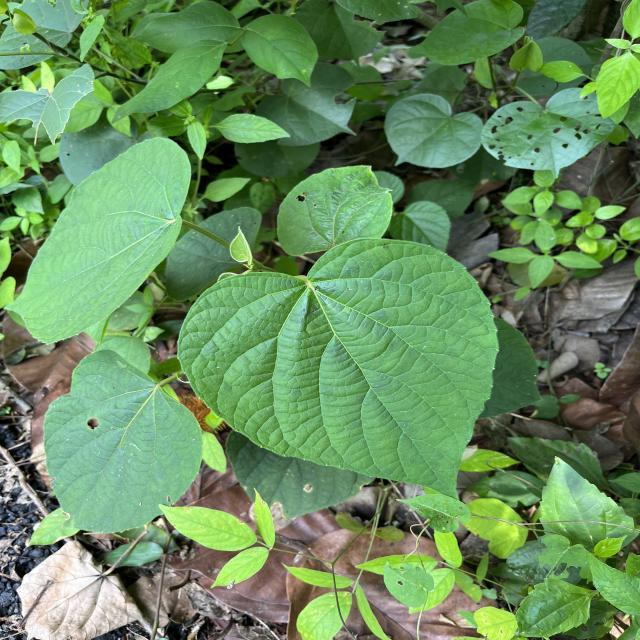Clerodendrum infortunatum: (174, 236, 502, 504), (5, 134, 194, 346), (41, 347, 206, 536)
